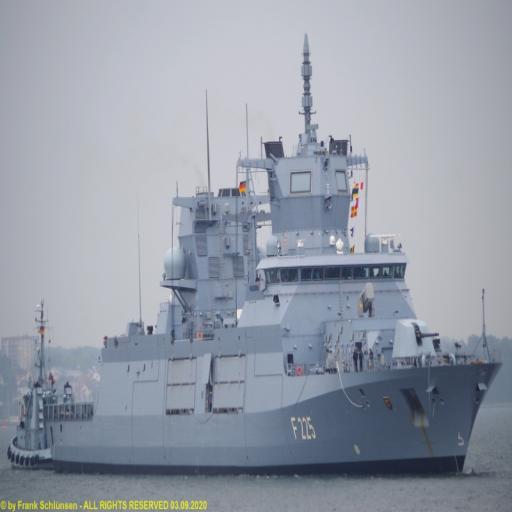Fragata: (43, 23, 505, 484)
